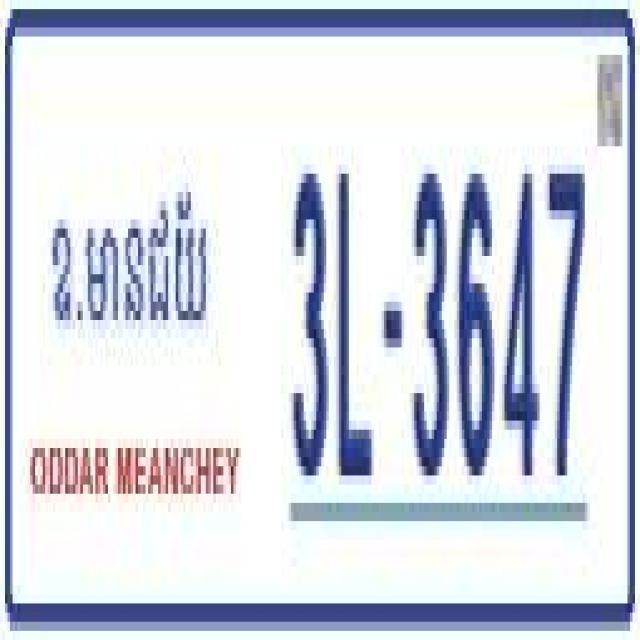Oudor_Meanchey: (48, 183, 210, 347)
